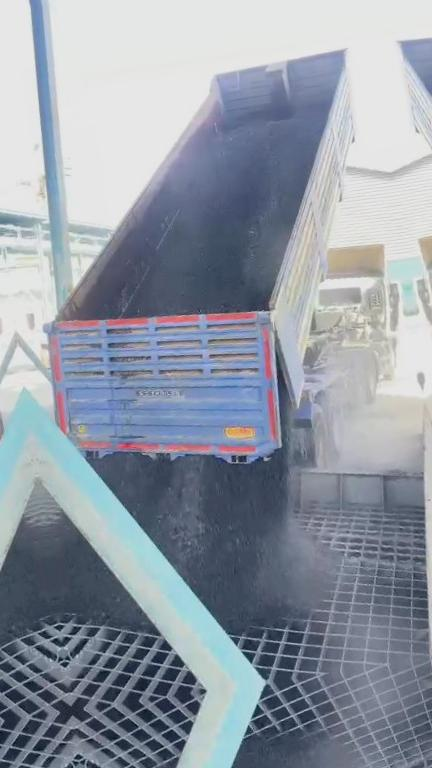gravel: (113, 110, 331, 321), (96, 451, 330, 628), (44, 515, 150, 629)
